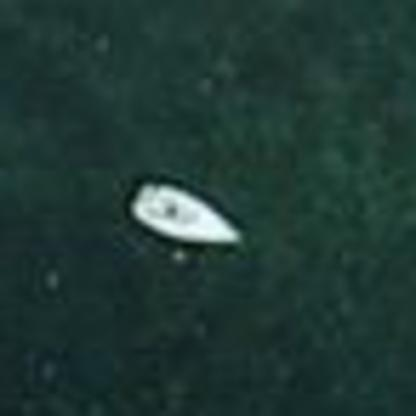ship: (115, 170, 260, 255)
